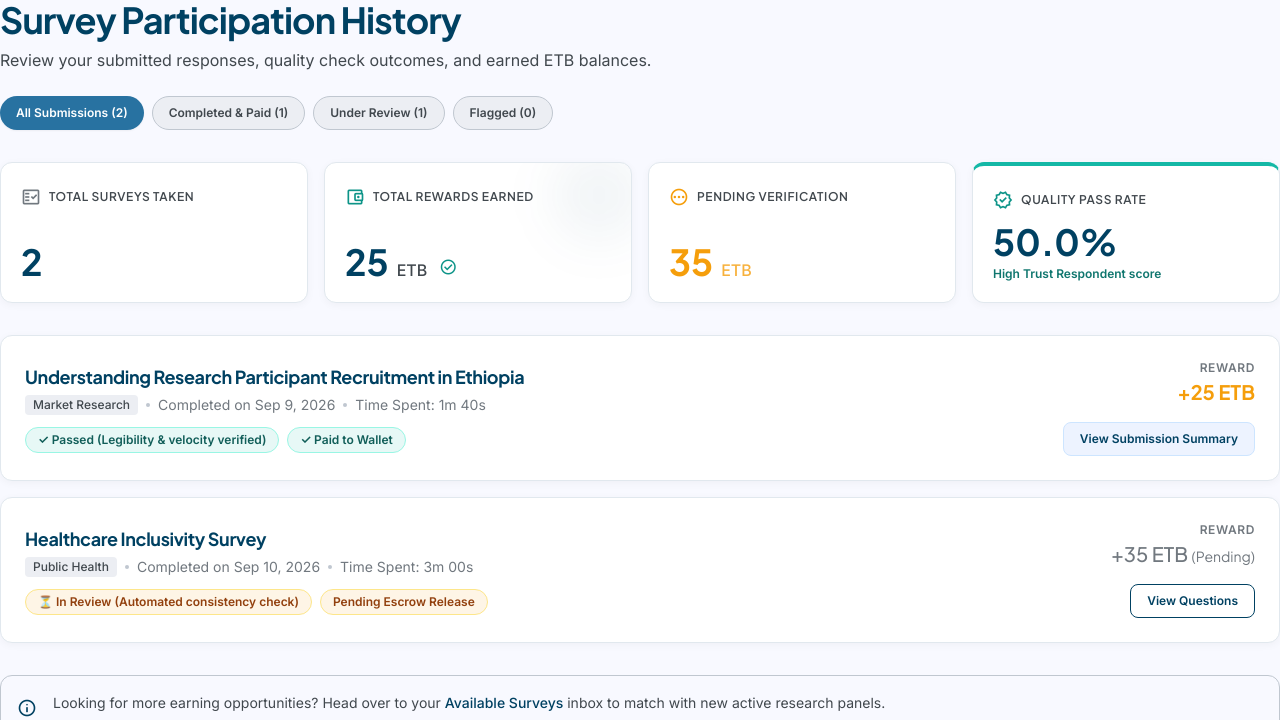
Test: HistoryPage - View Submission Summary Feature › closes modal when clicking Close button
Click the button "View Submission Summary": (1159, 439) [1063,422,1255,456]
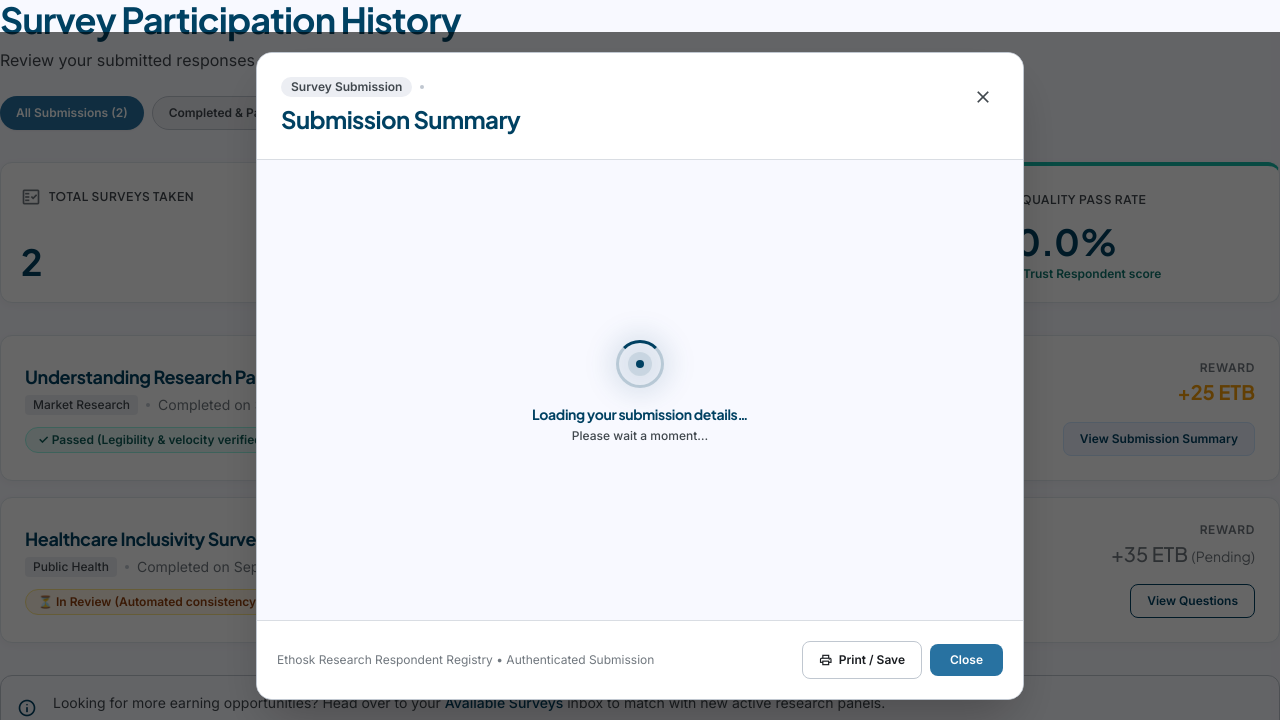
Now the dialog is shown
Click the button named "Close": (983, 99) [967,77,999,121]
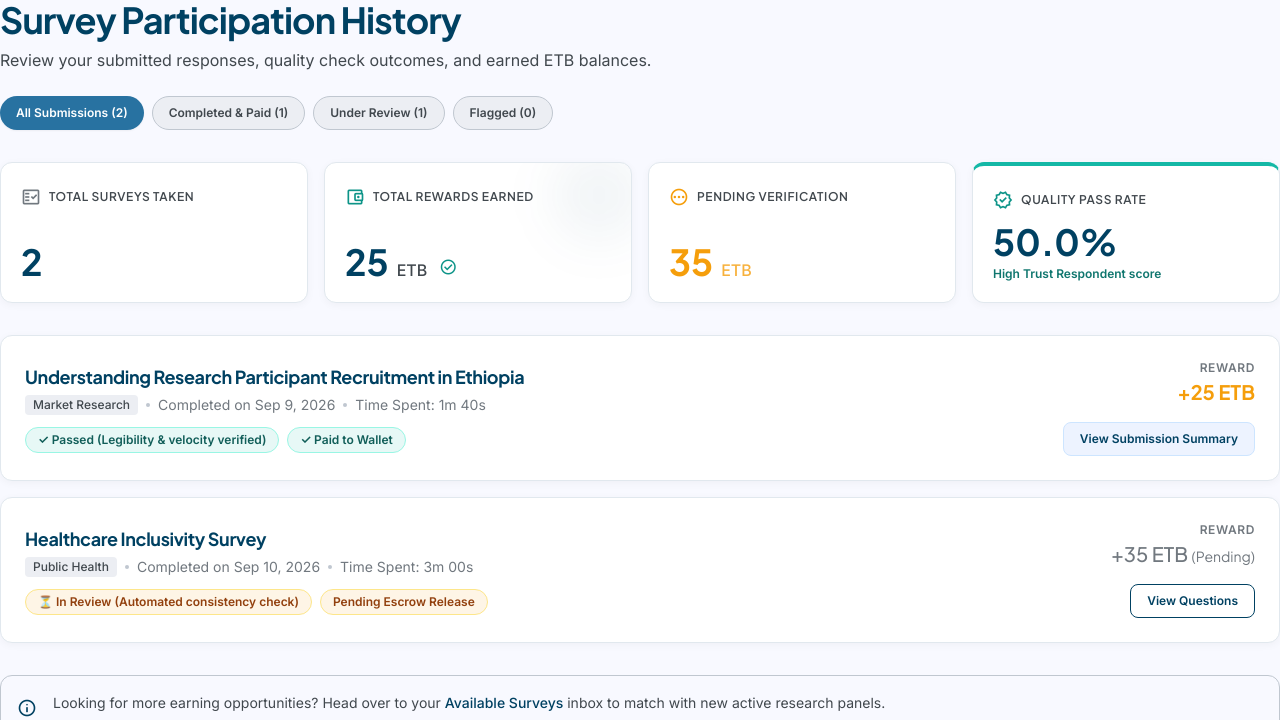
Now the dialog is gone
